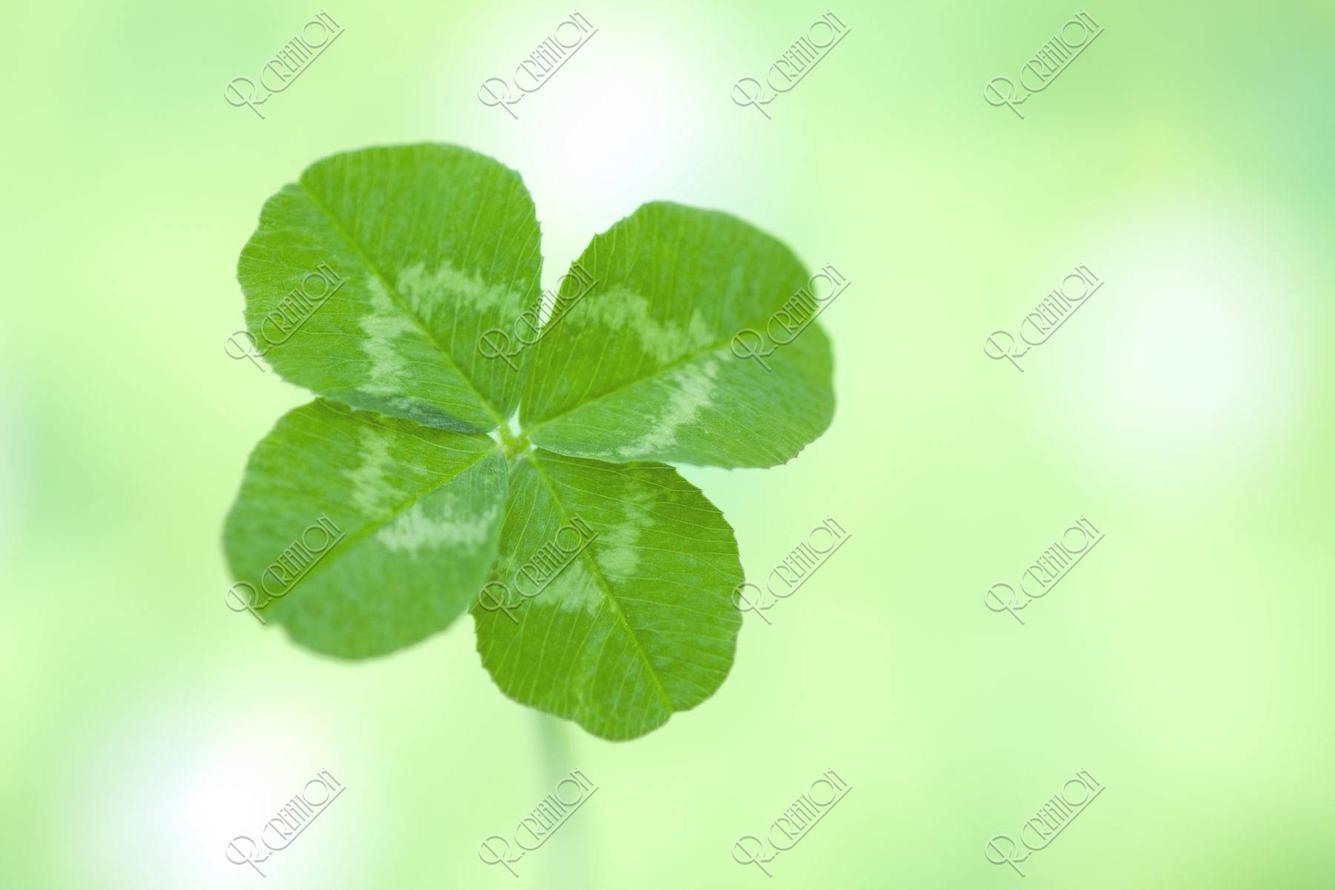daikon: (150, 50, 913, 804)
